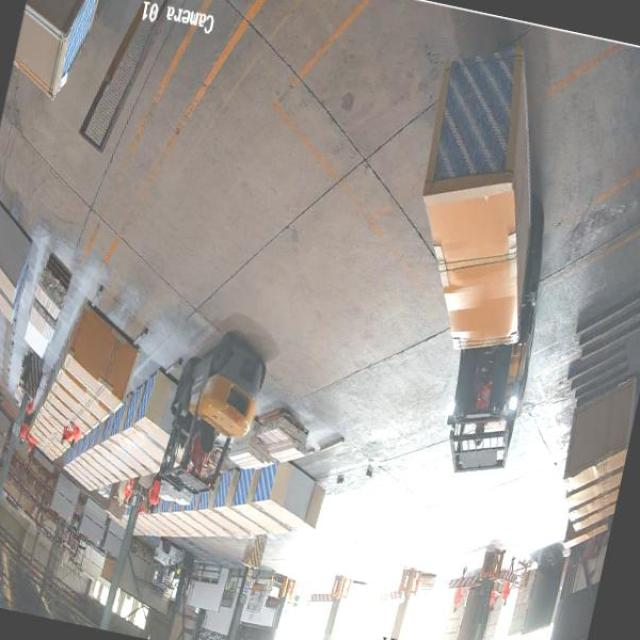driver: (468, 386, 498, 444), (185, 432, 214, 482)
forklift: (150, 314, 276, 518), (432, 332, 542, 494), (146, 534, 194, 598)
person: (146, 474, 164, 514), (122, 477, 135, 508), (68, 424, 82, 452), (452, 588, 465, 614), (500, 582, 513, 608), (60, 428, 70, 447), (488, 594, 498, 612)
